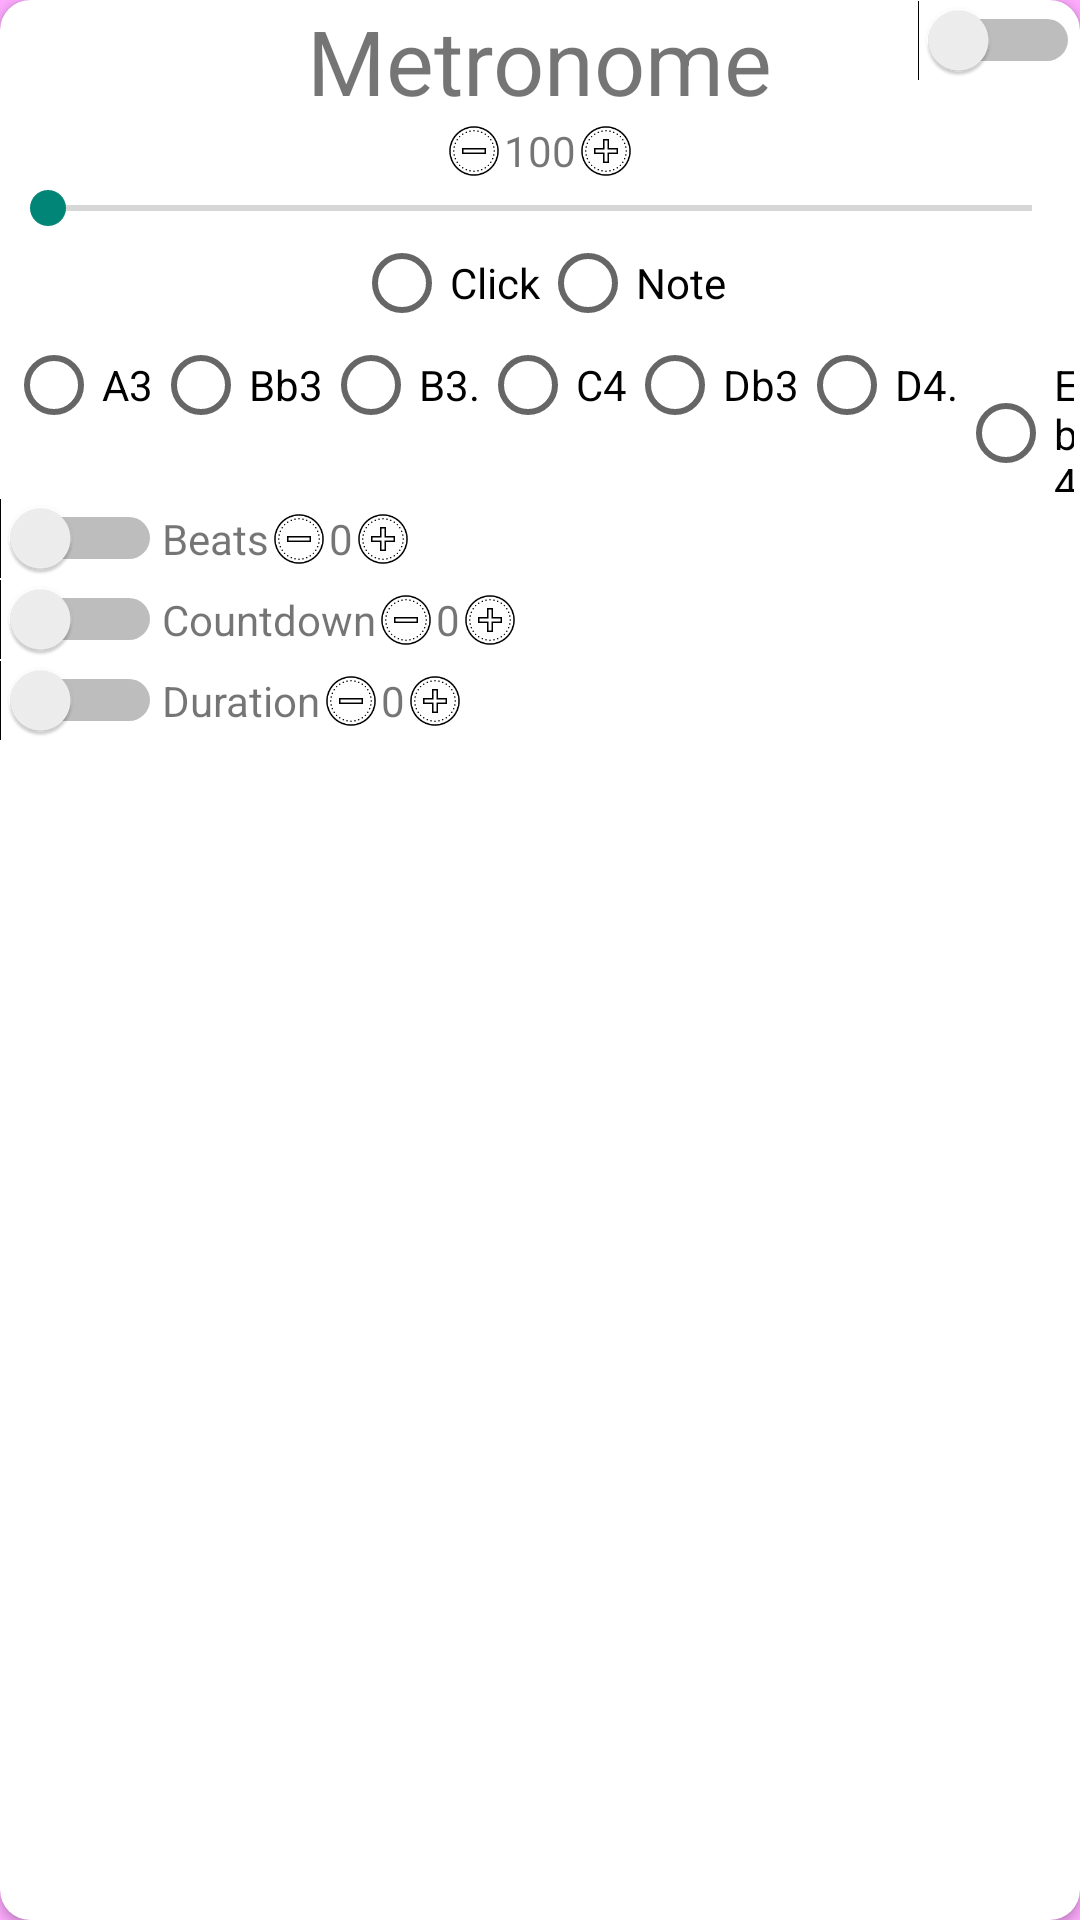

Point at icon controls on the screen. Image size 1080x1920, points as point (x, y).
minus: point (474, 151), point (299, 539), point (406, 620), point (351, 701)
plus: point (606, 151), point (383, 539), point (490, 620), point (435, 701)
